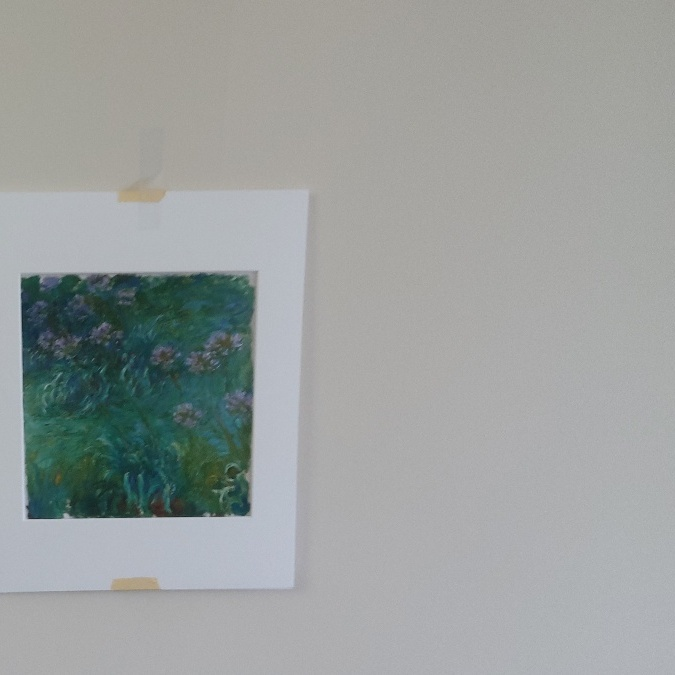painting: (13, 264, 267, 530)
